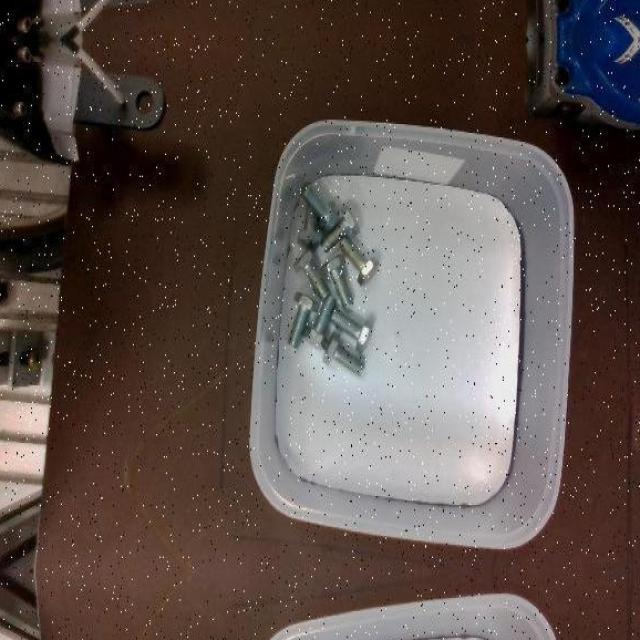screw: (292, 246, 330, 300), (339, 234, 379, 285), (299, 182, 339, 232), (330, 308, 373, 354), (302, 294, 337, 350), (322, 330, 364, 376), (320, 205, 360, 253), (320, 252, 353, 308), (287, 291, 319, 347)
